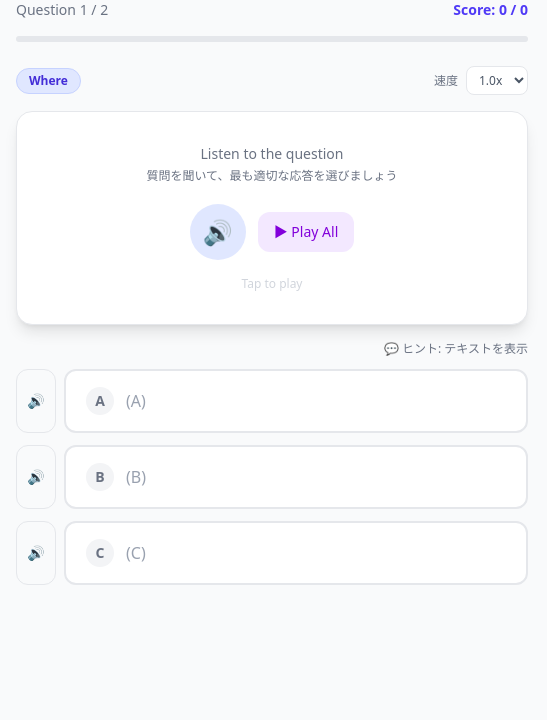
Test: Part2Listening › marks a correct selection, advances, and completes with full score
Click the button named "応答 A".
click(100, 401)  # box x1=64 y1=369 x2=528 y2=433
(page scrolled)
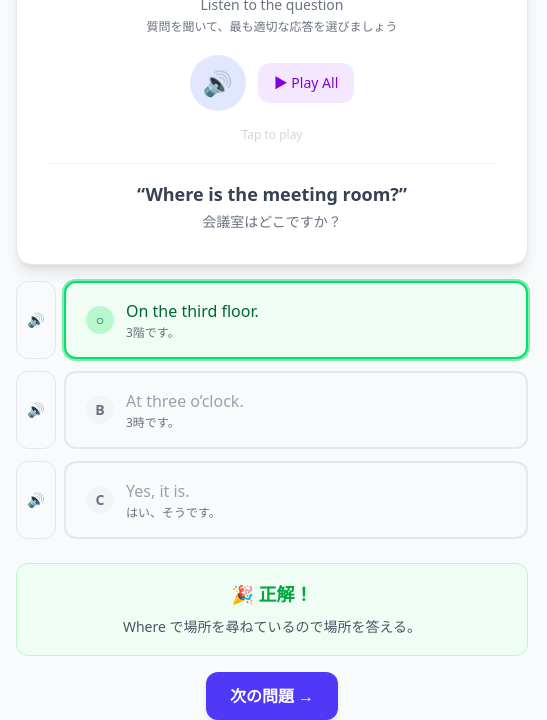
Result: the text "🎉 正解！" is shown at x1=231 y1=582 x2=312 y2=606
Note: Advance to next question
Click the button "次の問題 →".
click(272, 696)  # box x1=206 y1=672 x2=338 y2=719
(page scrolled)
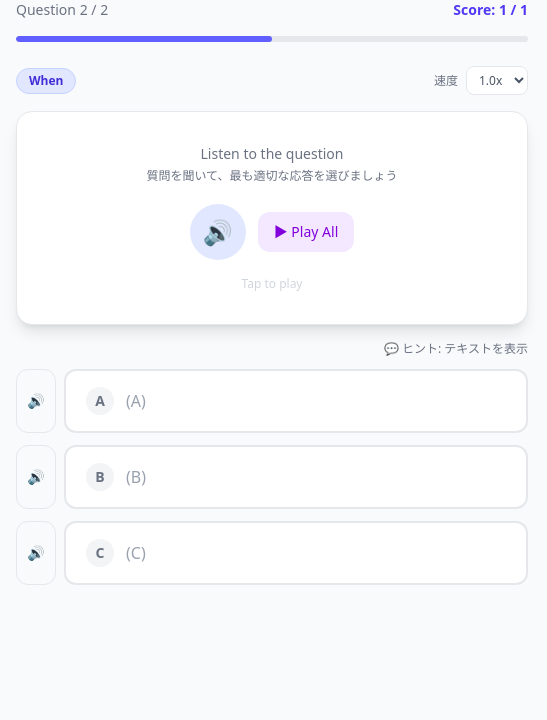
Result: the text "Question 2 / 2" is shown at x1=16 y1=0 x2=108 y2=20
Click the button named "応答 B".
click(100, 477)  # box x1=64 y1=445 x2=528 y2=509
(page scrolled)
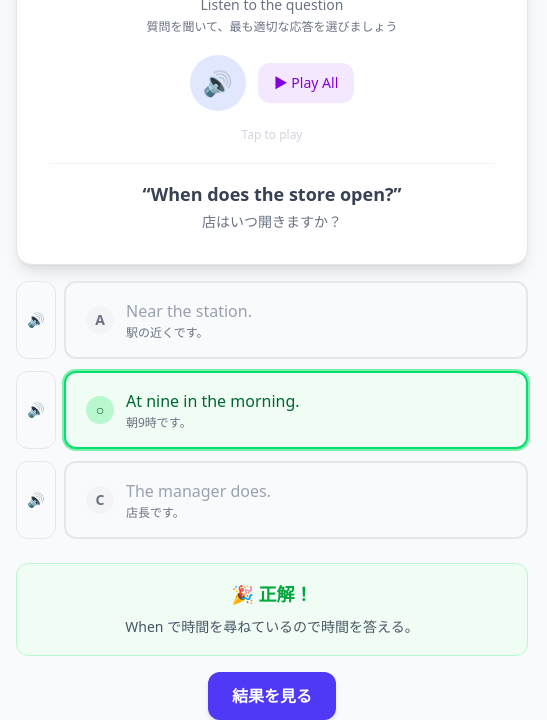
Result: the text "🎉 正解！" is shown at x1=231 y1=582 x2=312 y2=606
Click the button "結果を見る".
click(272, 696)  # box x1=208 y1=672 x2=336 y2=719
(page scrolled)
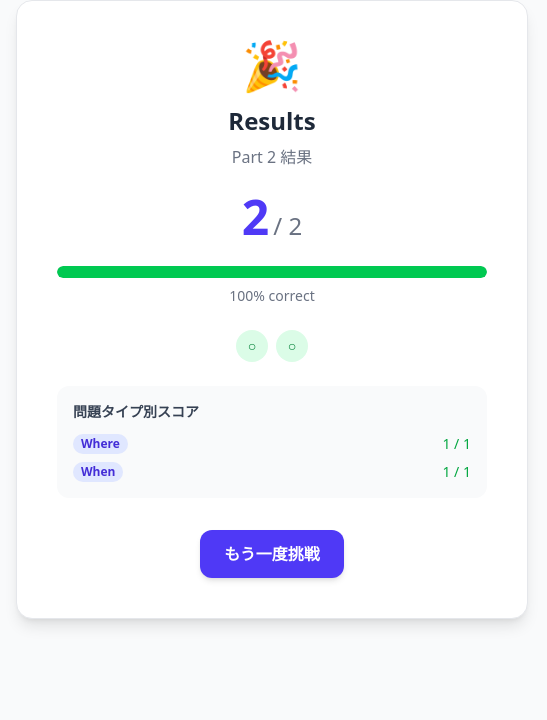
Result: the text "2" is shown at x1=242 y1=193 x2=269 y2=241
Result: the heading "Results" is shown at x1=228 y1=104 x2=316 y2=137
Result: the text "100% correct" is shown at x1=229 y1=286 x2=315 y2=305
